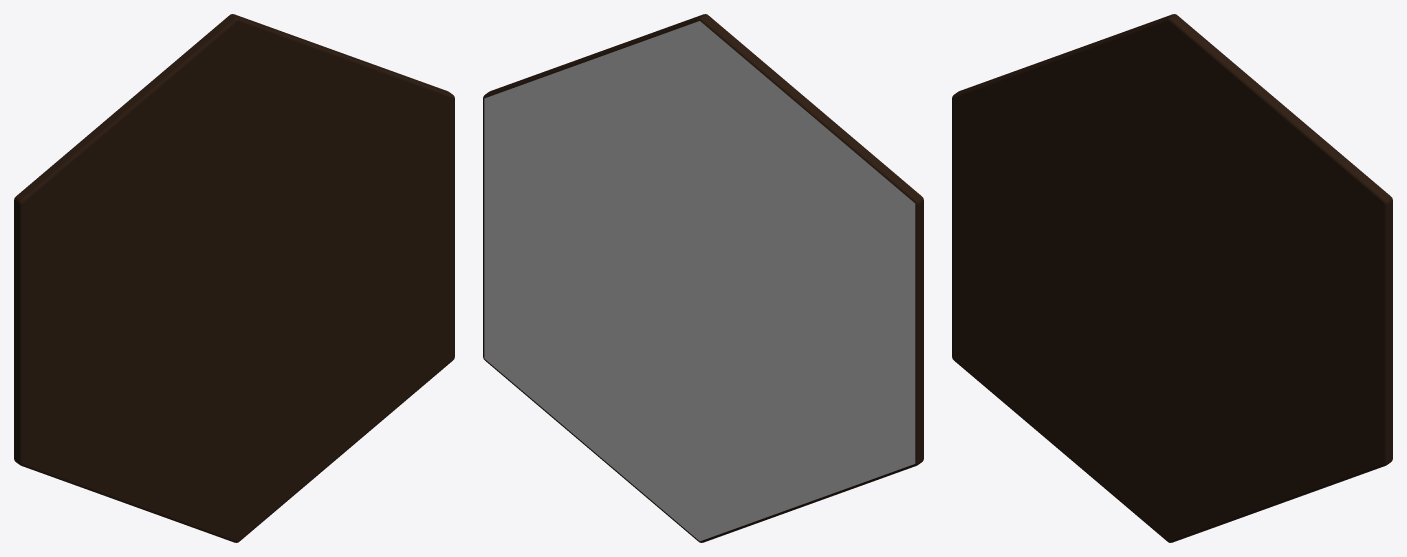
File: hex_tile.glb
The picture shows the model from 3 angles, left to right: view 1: azimuth 30°, elevation 25°; view 2: azimuth 150°, elevation 25°; view 3: azimuth 330°, elevation 25°; orthographic projection.
Visible parts, largest first — view 1: Cylinder; view 2: Cylinder; view 3: Cylinder.
Boxes of the visible parts, x1=… form: Cylinder: x1=14, y1=14, x2=454, y2=542; Cylinder: x1=483, y1=14, x2=923, y2=542; Cylinder: x1=952, y1=14, x2=1392, y2=542.
Size of the model in its own units: 1.73 by 1.99 by 0.05.
